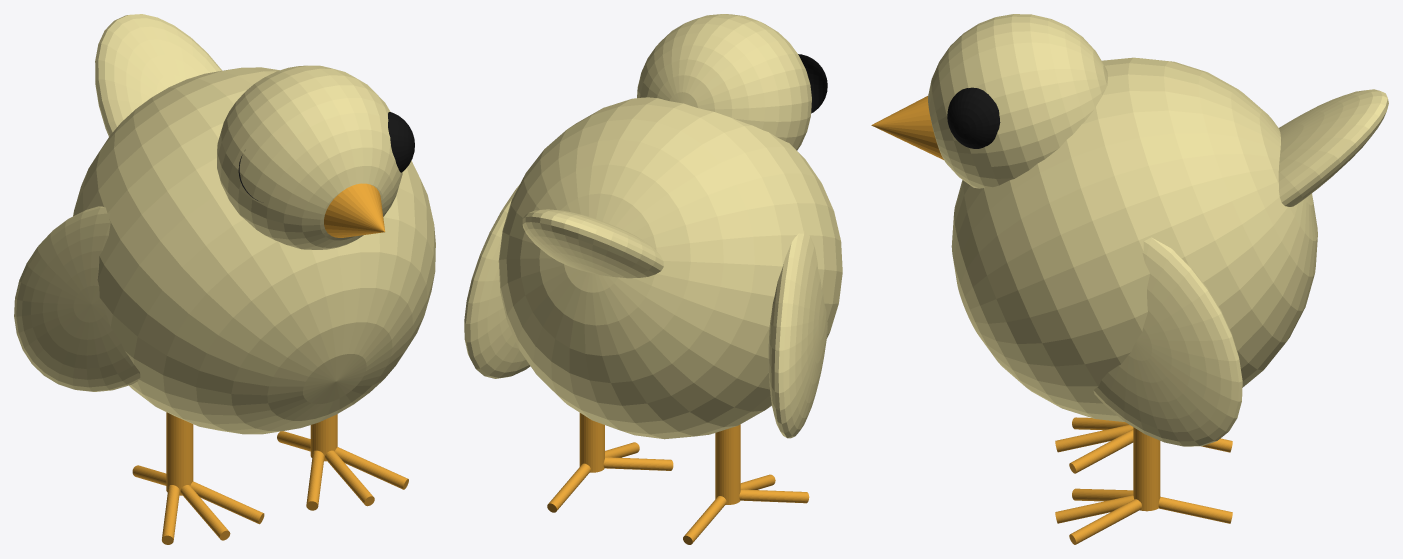
The model's file is pollo.fbx.
3 views of the same model, side by side, from view 1: azimuth 30°, elevation 25°; view 2: azimuth 150°, elevation 25°; view 3: azimuth 270°, elevation 25° (orthographic). The views are drawn at different scales.
Visible parts, largest first — view 1: Pollo; view 2: Pollo; view 3: Pollo.
Boxes of the visible parts, x1,y1,x2,y2 form: Pollo: (14, 14, 435, 544); Pollo: (464, 14, 842, 544); Pollo: (871, 14, 1388, 544).
Bounding box in the file's own units: 109 × 137 × 139.
